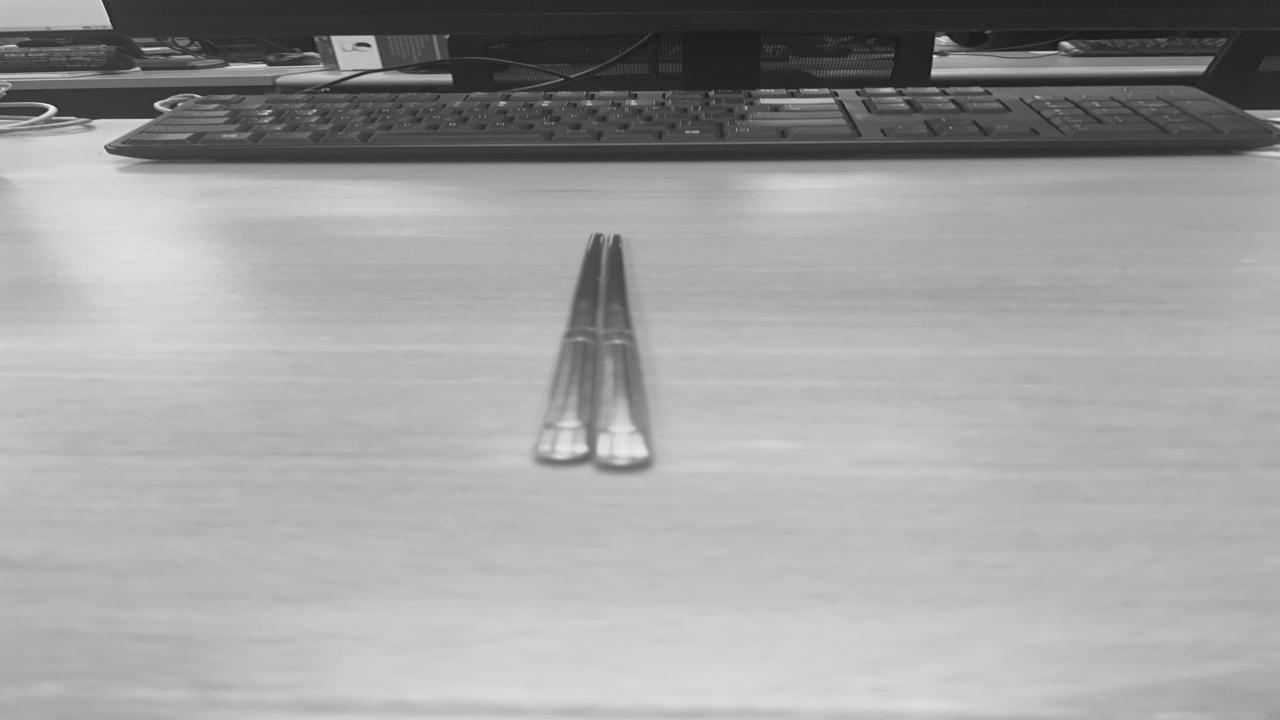chopstick: (538, 233, 654, 465)
